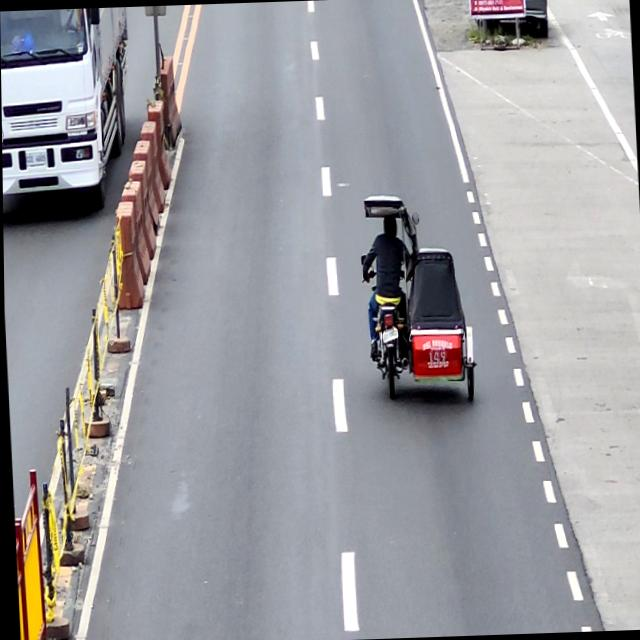License-Plate: (380, 327, 398, 344)
Tricycle: (359, 191, 478, 411)
